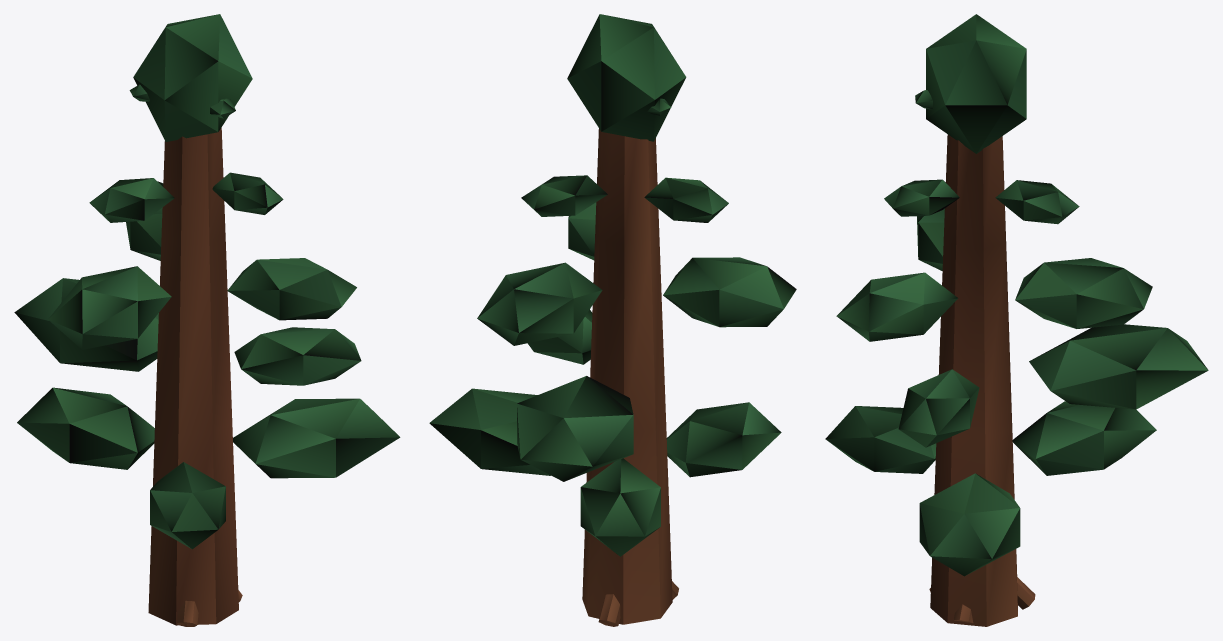
File: small-lod2.glb
3 renders of one model, left to right at view 1: azimuth 30°, elevation 25°; view 2: azimuth 150°, elevation 25°; view 3: azimuth 270°, elevation 25°, orthographic.
Visible parts, largest first — view 1: pine-trunk-branches-needles; view 2: pine-trunk-branches-needles; view 3: pine-trunk-branches-needles.
Boxes of the visible parts, x1,y1,x2,y2 form: pine-trunk-branches-needles: (14,14,400,626); pine-trunk-branches-needles: (429,14,796,626); pine-trunk-branches-needles: (825,14,1208,626).
Size of the model in its own units: 7.94 by 13.1 by 7.8.
